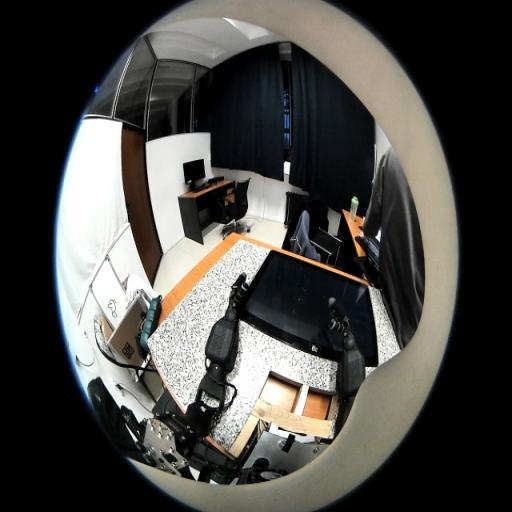LeftHand: (229, 291, 240, 309)
RightHand: (342, 319, 352, 337)
